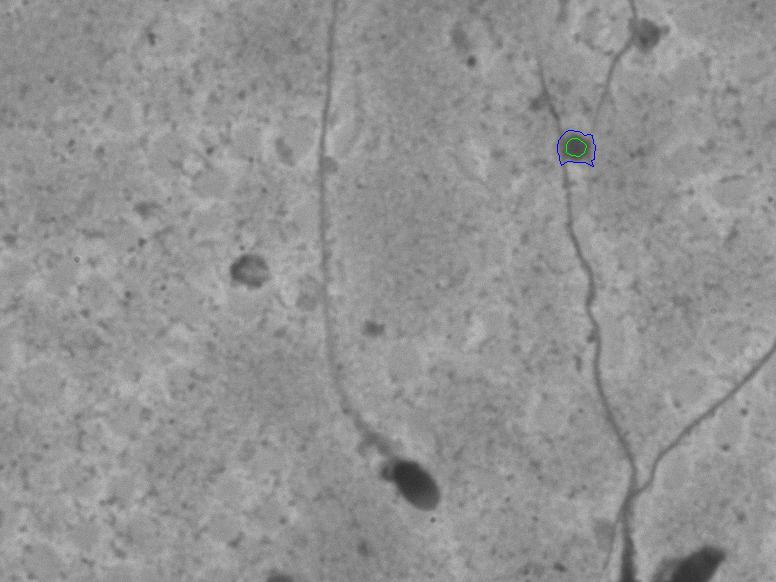Normal: (306, 1, 475, 534)
